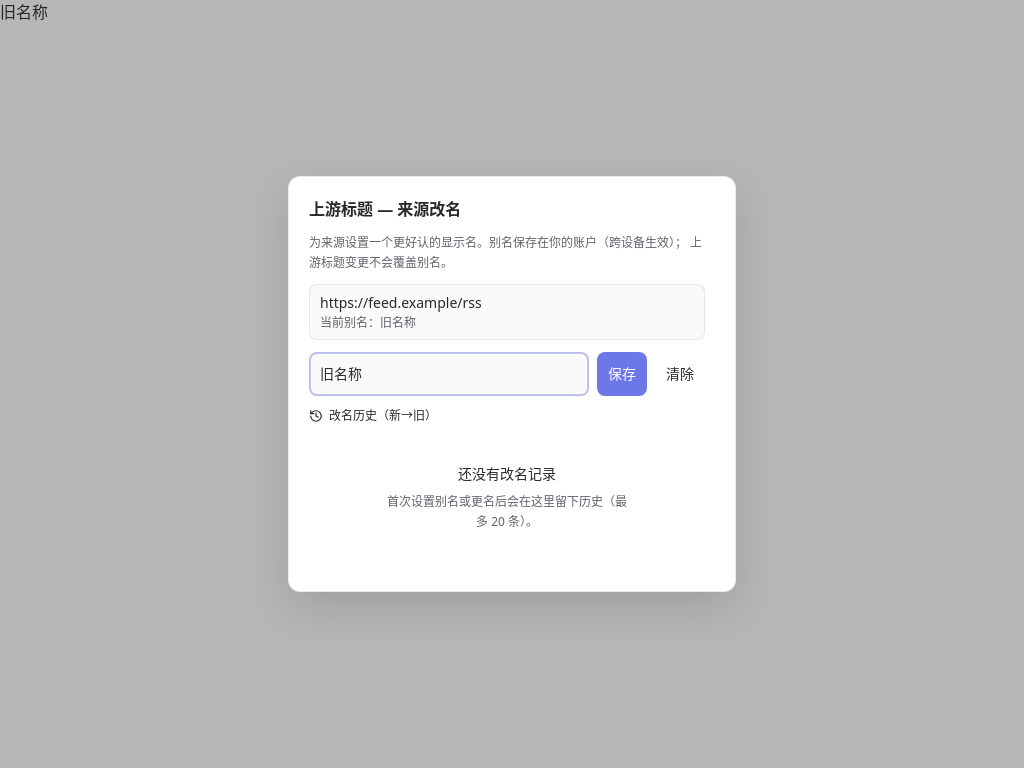
Test: FIX-128 来源改名后的展示新鲜度 › 保存新别名 → 别名查询被重新拉取，SourceLabel 立即显示新名称
expect the text "当前别名：旧名称" is shown: met, box [320,314,416,331]
expect the button "旧名称" is shown: met, box [0,0,48,24]
Replace the text in the field named "新的别名" with "新名称" at (449, 374), box [309,352,589,396]
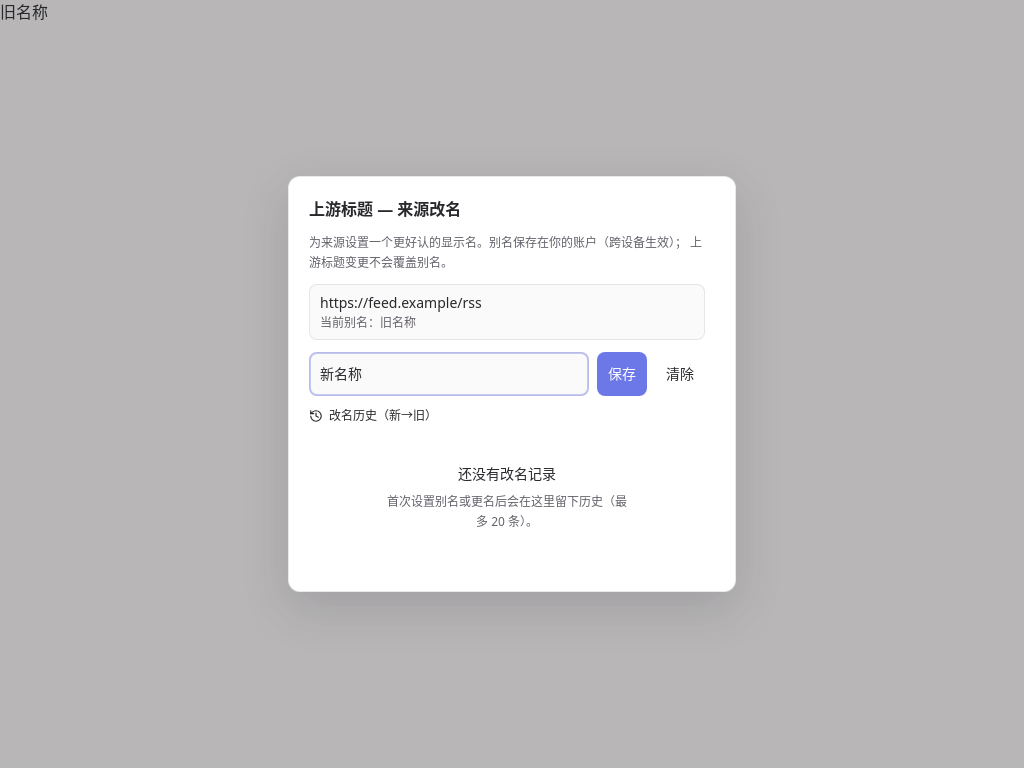
Click the button "保存".
click(622, 374)  # box [597,352,647,396]
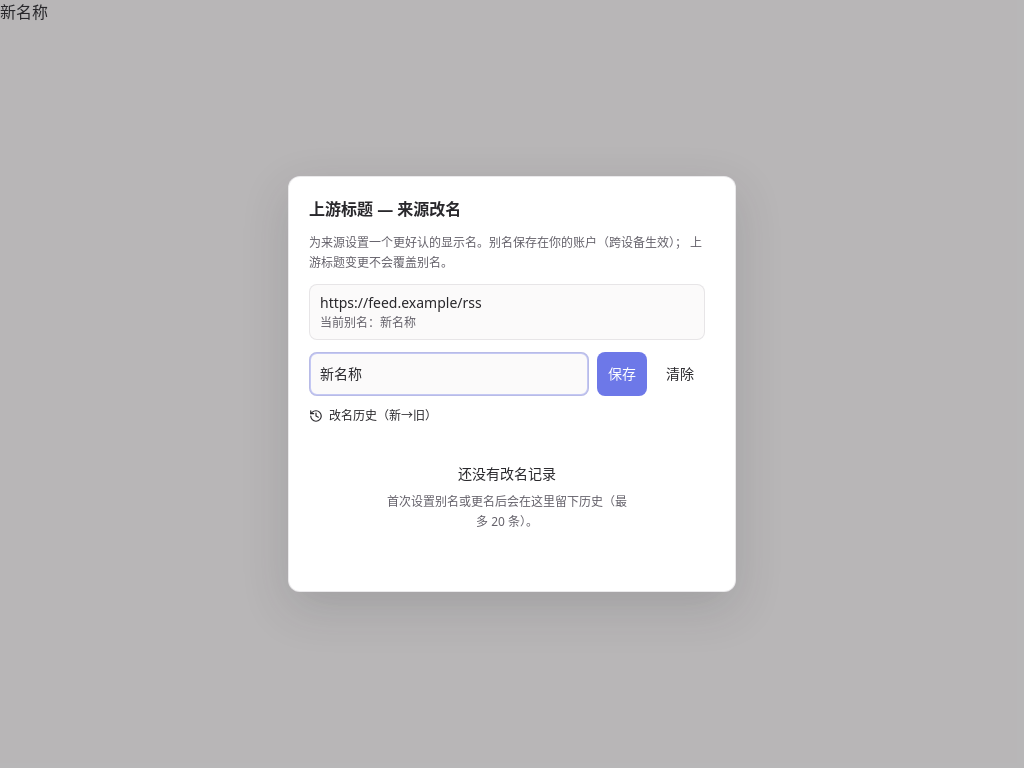
expect the button "旧名称" is gone: met
expect the button "新名称" is shown: met, box [0,0,48,24]
